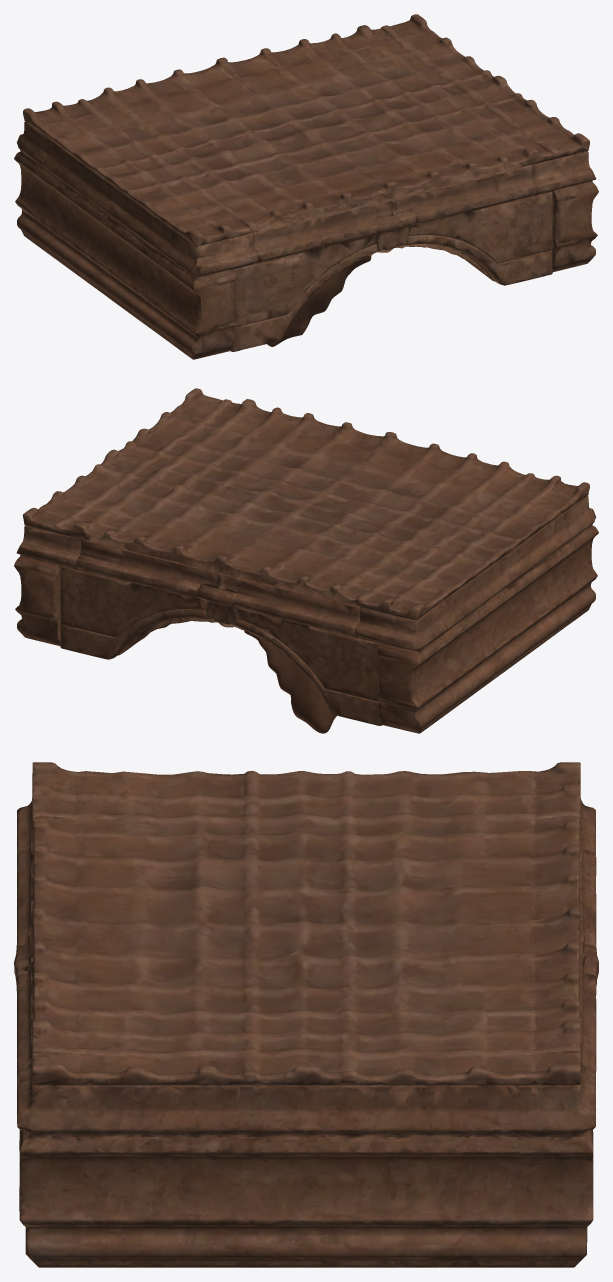
Rendered from sepia-cutout.lod1.glb.
The picture shows the model from 3 angles, top to bottom: view 1: azimuth 30°, elevation 25°; view 2: azimuth 150°, elevation 25°; view 3: azimuth 270°, elevation 25°; orthographic projection. The views are drawn at different scales.
Visible parts, largest first — view 1: Mesh_0; view 2: Mesh_0; view 3: Mesh_0.
Boxes of the visible parts, box(x1,y1,x2,y2) form: Mesh_0: box(14, 14, 598, 359); Mesh_0: box(14, 388, 598, 733); Mesh_0: box(14, 762, 598, 1267).
Bounding box in the file's own units: 0.225 × 0.12 × 0.1769.
1 material, 1 textured.
